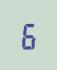six: (19, 19, 35, 50)
